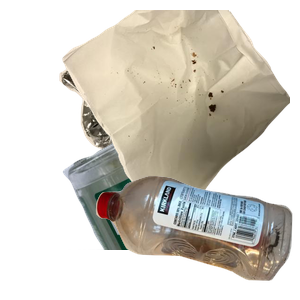glass: (60, 120, 300, 300)
metal: (57, 36, 241, 216)
plastic: (93, 173, 300, 300)
trash: (60, 10, 300, 190)
